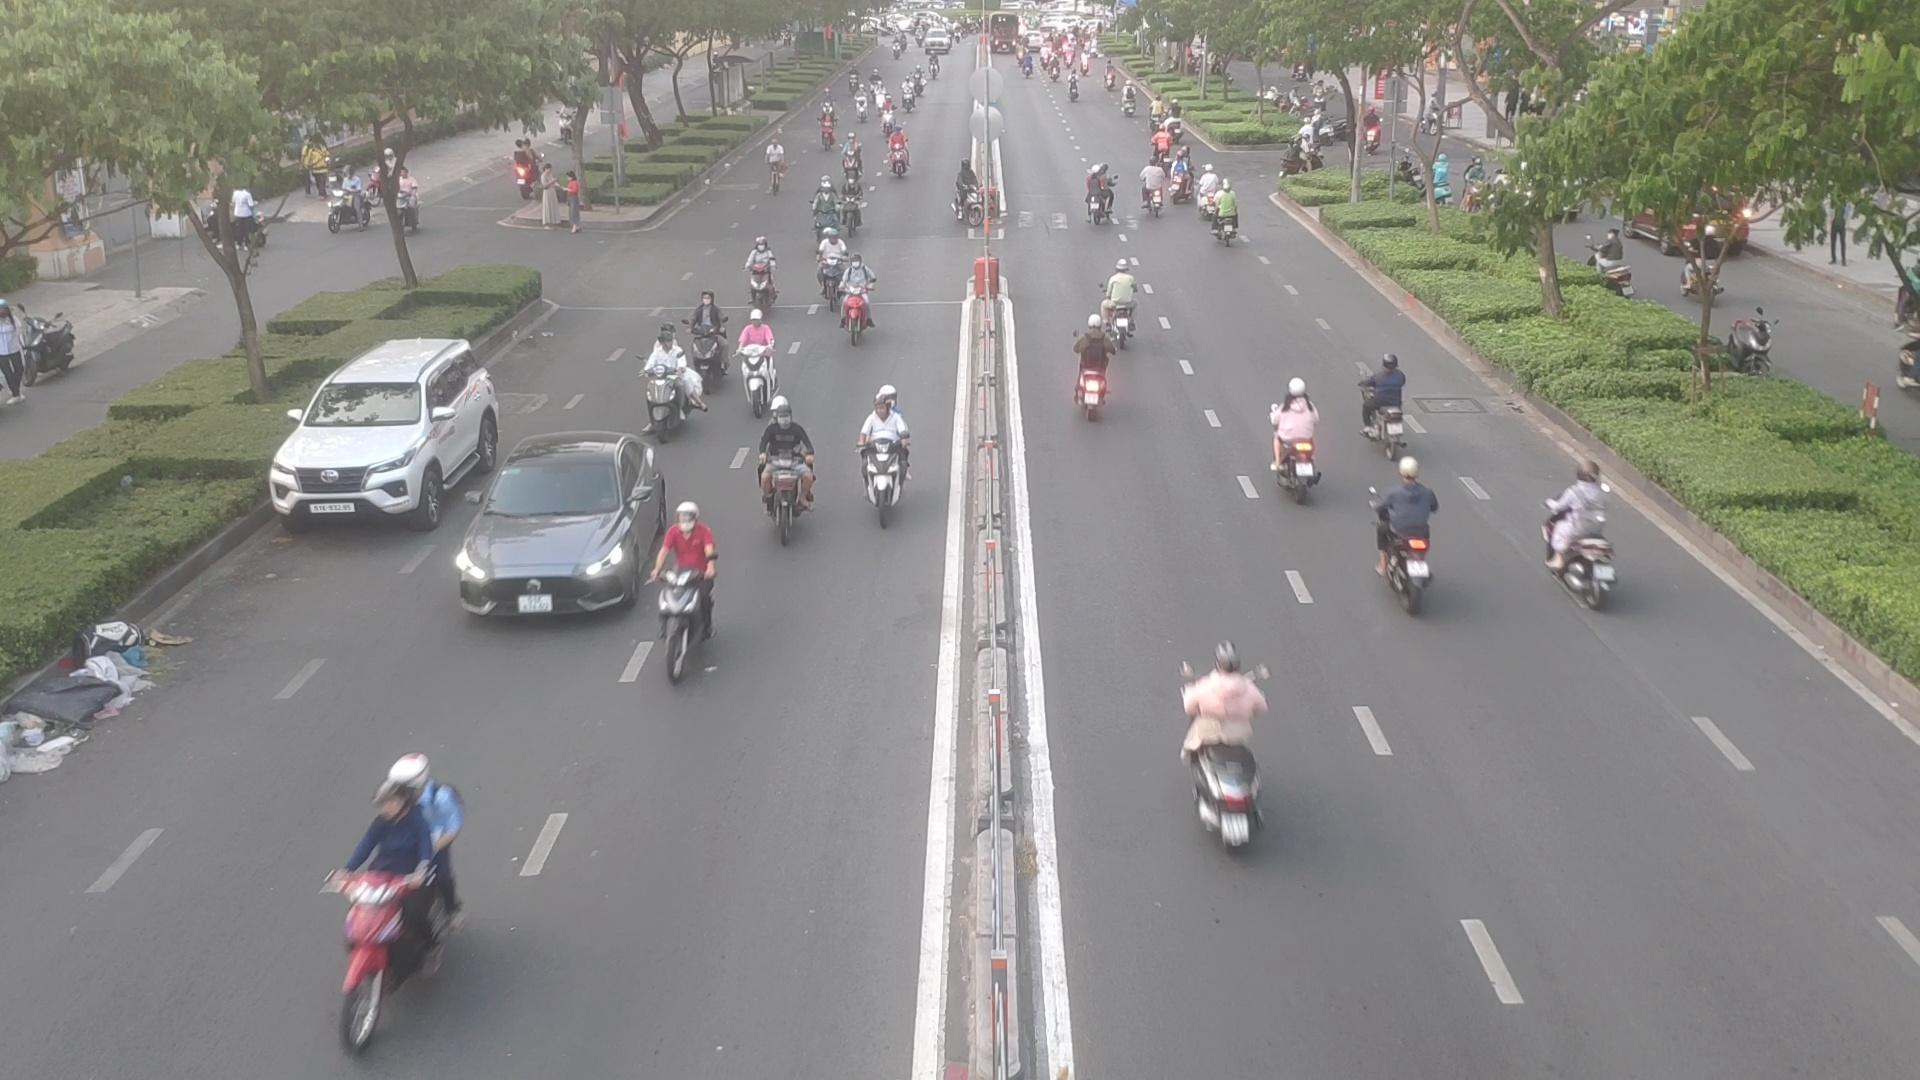car: (276, 334, 514, 525), (454, 439, 678, 625)
motorbike: (309, 760, 469, 1051), (1184, 651, 1283, 844), (638, 506, 713, 686), (1544, 469, 1625, 603), (1369, 475, 1443, 607), (753, 411, 822, 541), (853, 396, 915, 521), (636, 339, 702, 436), (1263, 386, 1320, 495), (1065, 316, 1124, 419), (825, 251, 876, 363), (1360, 353, 1408, 458), (686, 295, 737, 385), (735, 316, 786, 404), (1089, 270, 1146, 347), (738, 236, 781, 305), (808, 229, 844, 297), (1079, 166, 1117, 225), (945, 158, 977, 222), (810, 179, 840, 239), (837, 178, 870, 232), (881, 129, 915, 179), (1139, 160, 1167, 218), (1164, 150, 1192, 208), (1193, 161, 1220, 214), (845, 133, 866, 183)
